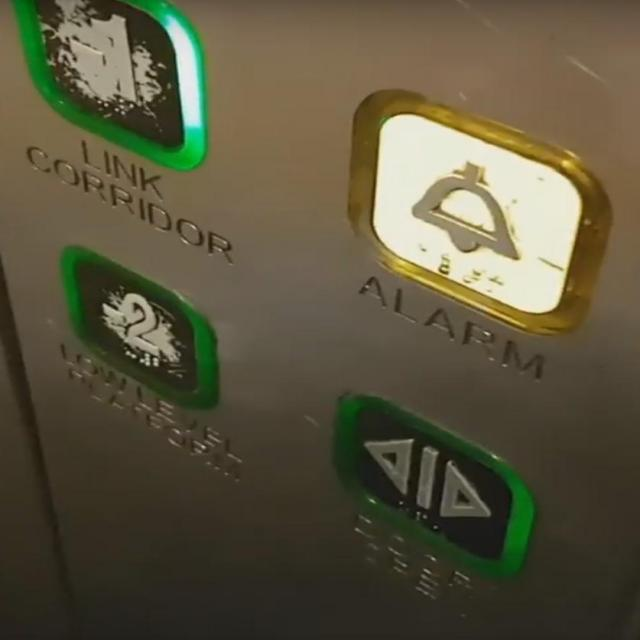-1: (9, 0, 205, 172)
2: (57, 244, 219, 414)
alarm: (344, 90, 613, 340)
open: (334, 388, 534, 587)
